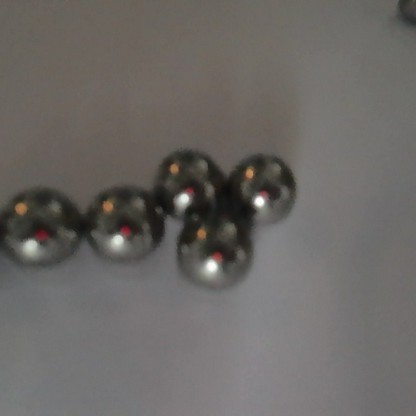ironball: (0, 179, 78, 272), (169, 210, 253, 289), (83, 182, 158, 261), (226, 148, 297, 225), (153, 146, 223, 215)
